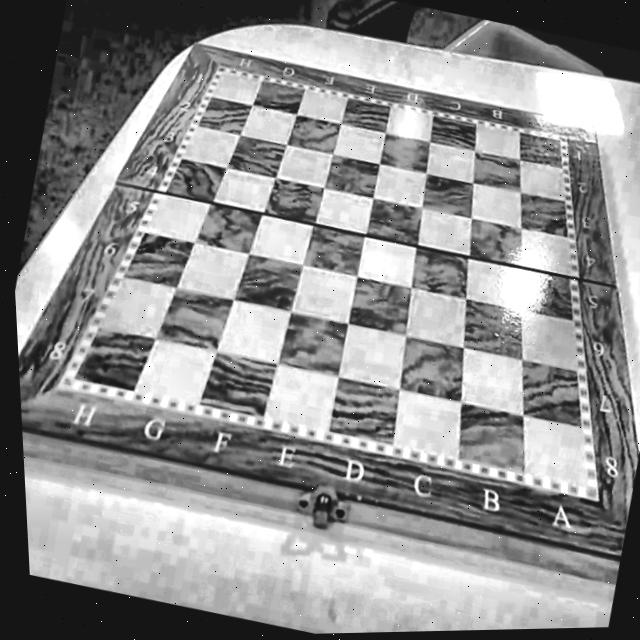chessboard: (18, 43, 628, 548)
